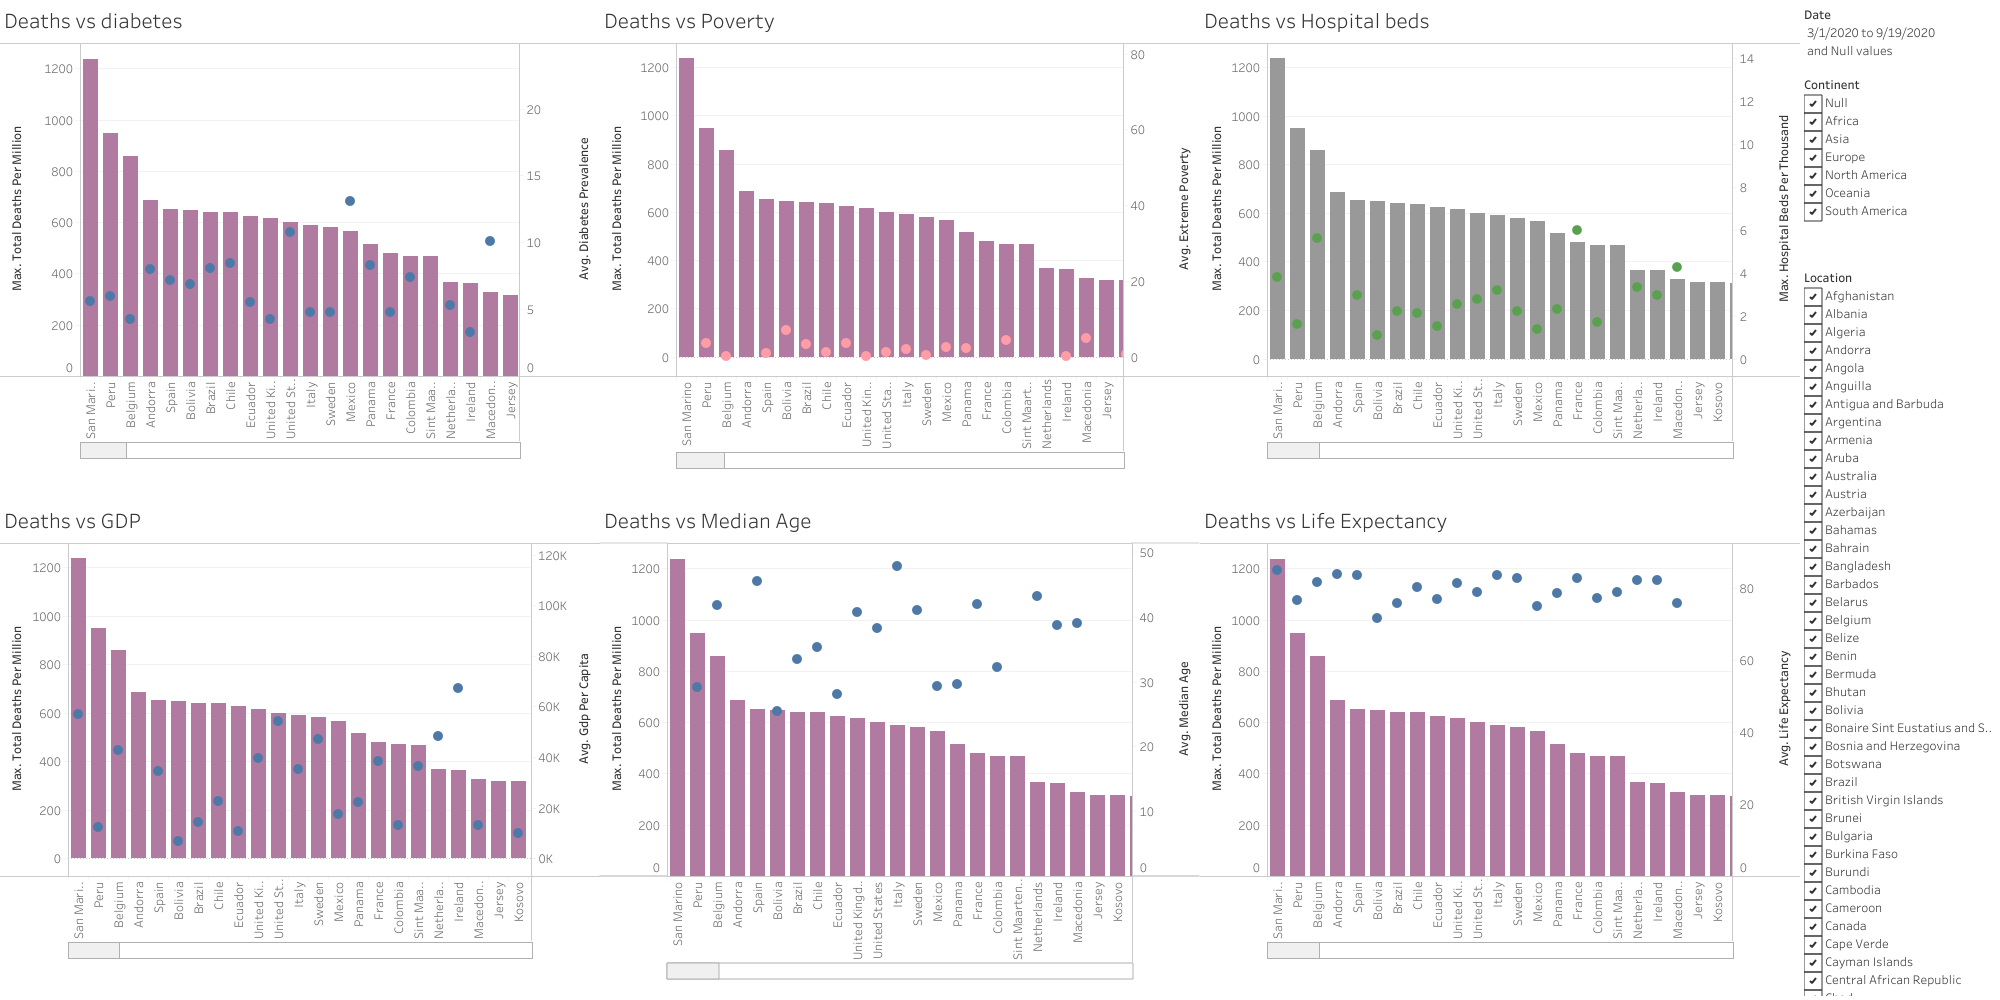

The page's visual inventory and layout, read from the dashboard file:
{"tool":"tableau","page":{"name":"Death vs Factors","canvas":[2000,1000],"ordinal":1},"visuals":[{"type":"worksheet","title":"Deaths vs diabetes","mark":"Automatic","rows":["total_deaths_per_million","diabetes_prevalence"],"cols":["location"],"box":[0,0,600,500]},{"type":"worksheet","title":"Deaths vs Poverty","mark":"Bar","rows":["total_deaths_per_million","extreme_poverty"],"cols":["location"],"box":[600,0,600,500]},{"type":"worksheet","title":"Deaths vs Hospital beds","mark":"Automatic","rows":["total_deaths_per_million","hospital_beds_per_thousand"],"cols":["location"],"box":[1200,0,600,500]},{"type":"worksheet","param":"vert","box":[1800,0,200,1000]},{"type":"worksheet","title":"Deaths vs Median Age","mark":"Bar","rows":["total_deaths_per_million","median_age"],"cols":["location"],"param":"[federated.1jcq4qh1dy3hzo12v83hi0y6t4ag].[none:date:qk]","box":[1800,0,200,72]},{"type":"worksheet","title":"Deaths vs Median Age","mark":"Bar","rows":["total_deaths_per_million","median_age"],"cols":["location"],"param":"[federated.1jcq4qh1dy3hzo12v83hi0y6t4ag].[none:continent:nk]","box":[1800,72,200,211]},{"type":"worksheet","title":"Deaths vs Median Age","mark":"Bar","rows":["total_deaths_per_million","median_age"],"cols":["location"],"param":"[federated.1jcq4qh1dy3hzo12v83hi0y6t4ag].[none:location:nk]","box":[1800,283,200,717]},{"type":"worksheet","title":"Deaths vs GDP","mark":"Automatic","rows":["total_deaths_per_million","gdp_per_capita"],"cols":["location"],"box":[0,500,600,500]},{"type":"worksheet","title":"Deaths vs Median Age","mark":"Bar","rows":["total_deaths_per_million","median_age"],"cols":["location"],"box":[600,500,600,500]},{"type":"worksheet","title":"Deaths vs Life Expectancy","mark":"Automatic","rows":["total_deaths_per_million","life_expectancy"],"cols":["location"],"box":[1200,500,600,500]}]}

Visuals, with their boxes on the page's 2000x1000 design canvas (x1, y1, x2, y2). These are canvas units, not pixel positions in the 2000x1000 screenshot, which may show the page scaled, cropped or inside an application window:
"Deaths vs diabetes" worksheet: [0,0,600,500]
"Deaths vs Poverty" worksheet (Bar marks): [600,0,1200,500]
"Deaths vs Hospital beds" worksheet: [1200,0,1800,500]
worksheet: [1800,0,2000,1000]
"Deaths vs Median Age" worksheet (Bar marks): [1800,0,2000,72]
"Deaths vs Median Age" worksheet (Bar marks): [1800,72,2000,283]
"Deaths vs Median Age" worksheet (Bar marks): [1800,283,2000,1000]
"Deaths vs GDP" worksheet: [0,500,600,1000]
"Deaths vs Median Age" worksheet (Bar marks): [600,500,1200,1000]
"Deaths vs Life Expectancy" worksheet: [1200,500,1800,1000]
